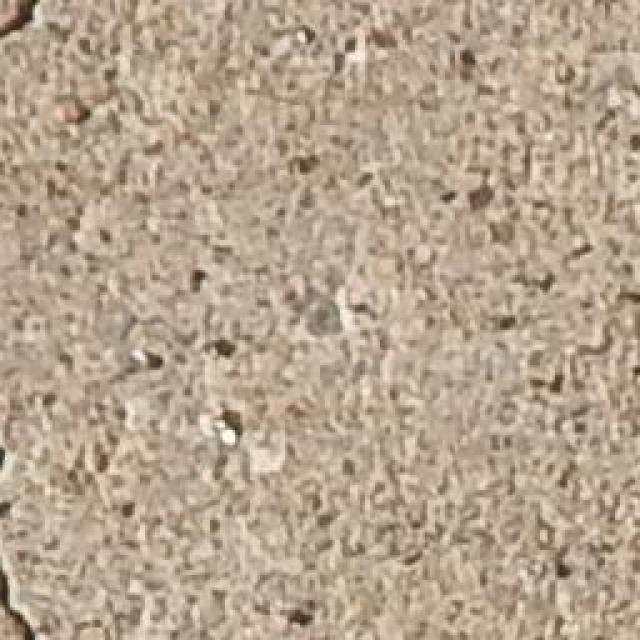concrete-crack: (0, 558, 34, 640), (0, 0, 36, 35)
